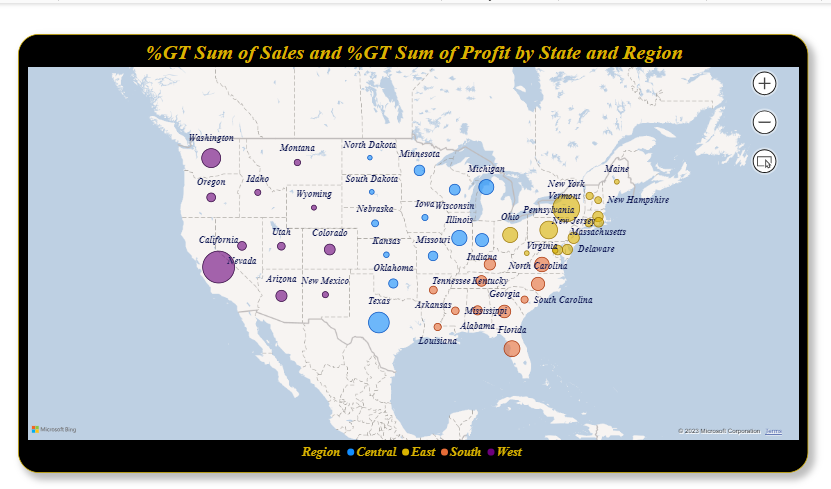

What the dashboard file says about the page in this screenshot:
{"tool":"powerbi","page":{"name":"MAP1","canvas":[1280,720],"ordinal":8},"visuals":[{"type":"map","fields":{"Category":["Orders.State"],"Series":["Orders.Region"],"Size":["Sum(Orders.Sales)"]},"box":[84.4,44.6,1138.5,632],"z":0}]}

Visuals, with their boxes on the page's 1280x720 design canvas (x1, y1, x2, y2). These are canvas units, not pixel positions in the 831x489 screenshot, which may show the page scaled, cropped or inside an application window:
map - Orders.State x Orders.Region: box(84, 45, 1223, 677)
